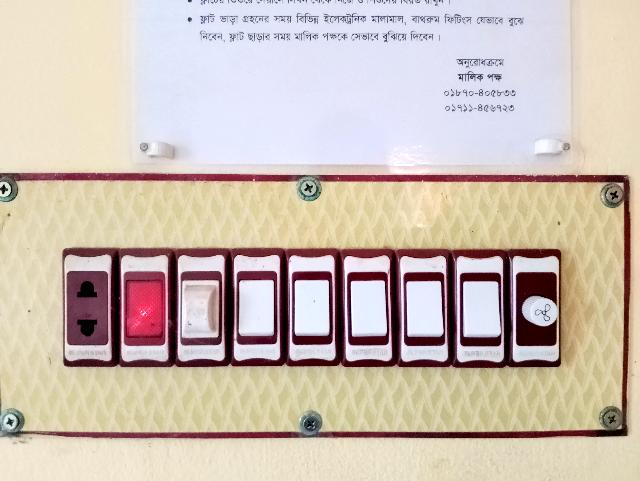hardplastic: (53, 245, 562, 381)
